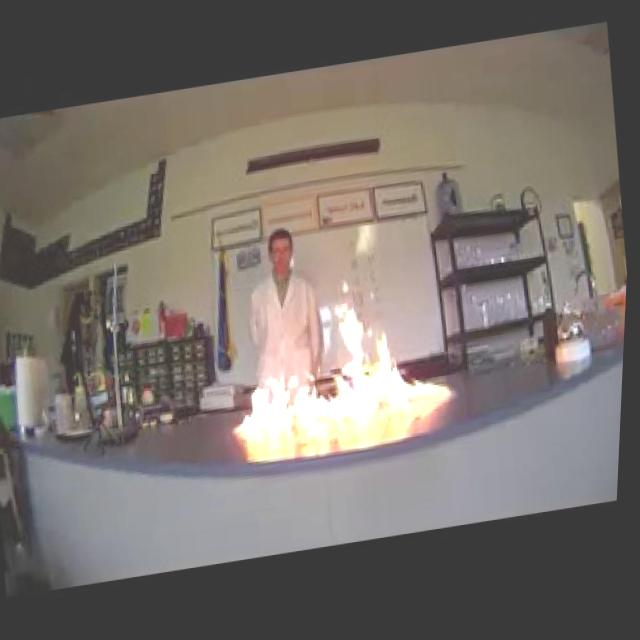no_helmet: (215, 285, 464, 445)
